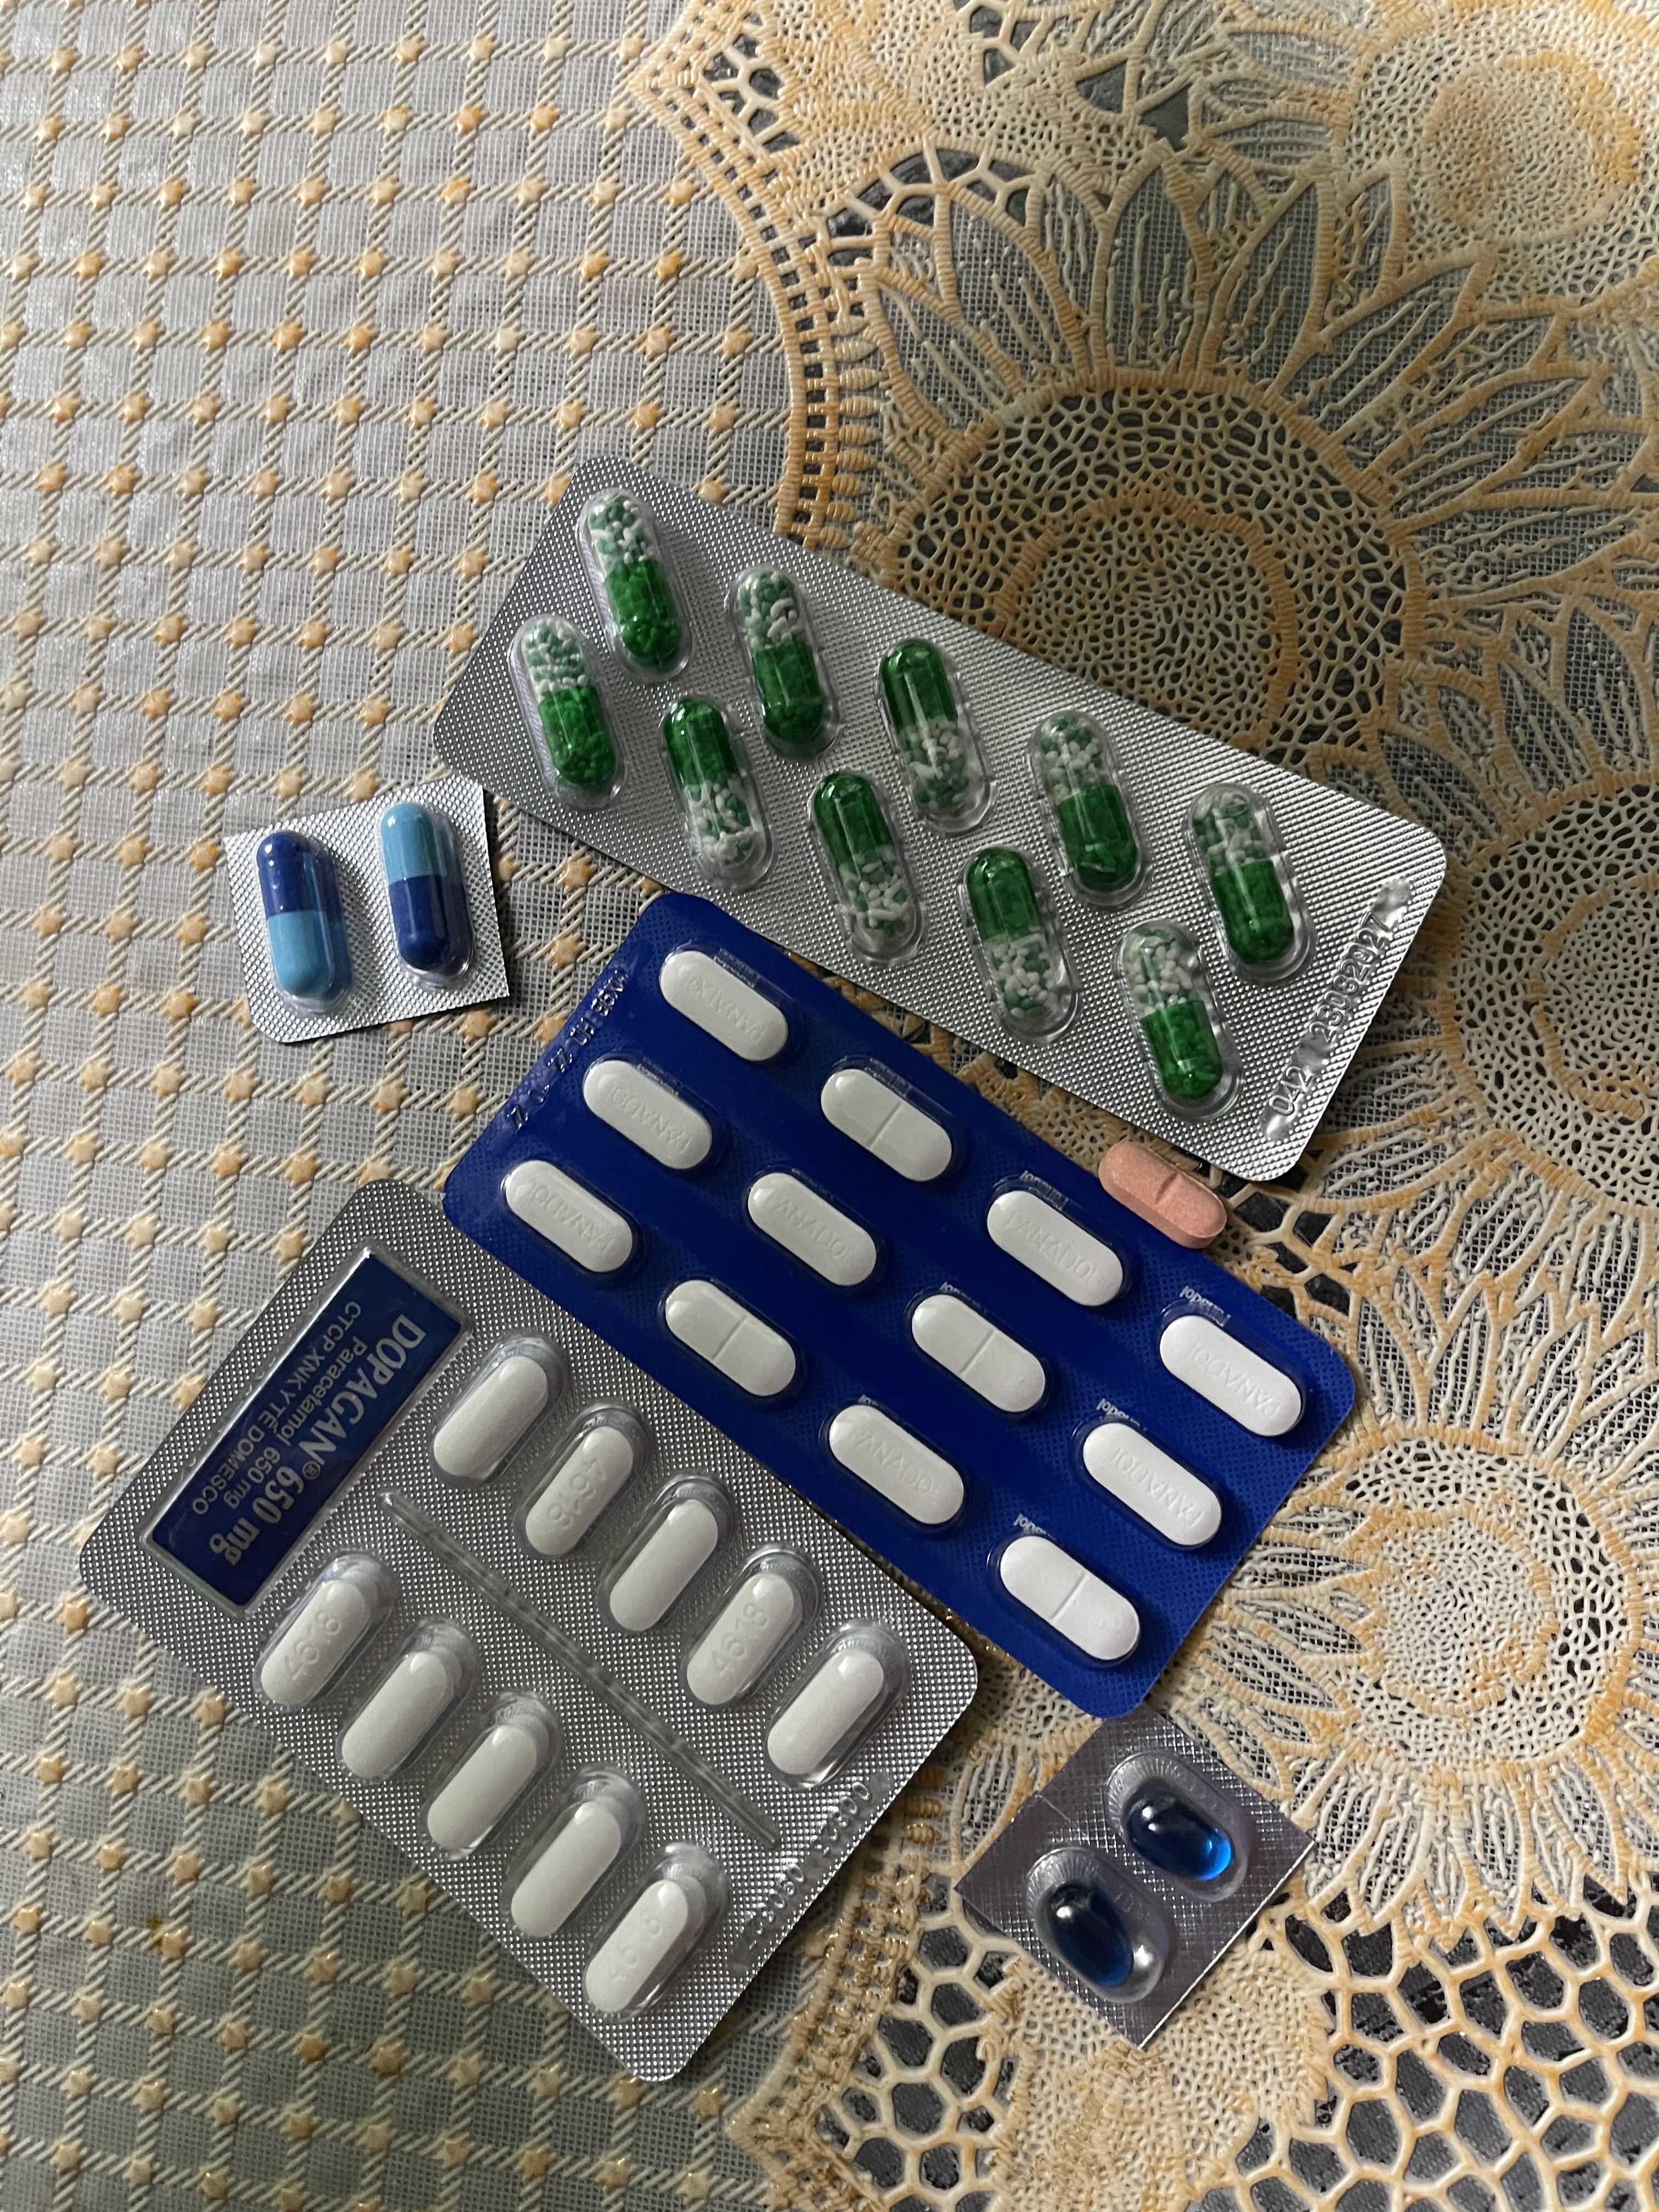Lincomyxin_500mg: (1122, 1787, 1234, 1885), (1040, 1879, 1136, 1993)
Loratadine_10mg: (1100, 1141, 1223, 1245)
Paracetamol_350mg: (997, 1527, 1138, 1662), (1157, 1313, 1305, 1440), (1079, 1420, 1220, 1552), (910, 1291, 1046, 1418), (828, 1404, 960, 1533), (986, 1184, 1124, 1308), (666, 1280, 800, 1406), (746, 1174, 880, 1298), (584, 1062, 723, 1181), (500, 1160, 634, 1278), (823, 1062, 955, 1177), (659, 948, 786, 1054)
Paracetamol_500mg: (504, 1768, 647, 1944), (594, 1474, 742, 1639), (335, 1613, 479, 1780), (422, 1691, 565, 1858), (762, 1616, 897, 1789), (511, 1399, 650, 1555), (254, 1550, 392, 1703), (427, 1336, 565, 1486), (683, 1555, 810, 1705), (584, 1872, 706, 2015)
Paracetamol_650mg: (1183, 779, 1307, 975), (965, 846, 1075, 1029), (737, 577, 842, 766), (1117, 918, 1223, 1097), (878, 643, 983, 824), (660, 702, 763, 880), (812, 777, 915, 954), (518, 618, 617, 794), (1039, 712, 1138, 887), (586, 493, 678, 667)
pill: (256, 829, 352, 1012), (380, 801, 471, 982)
